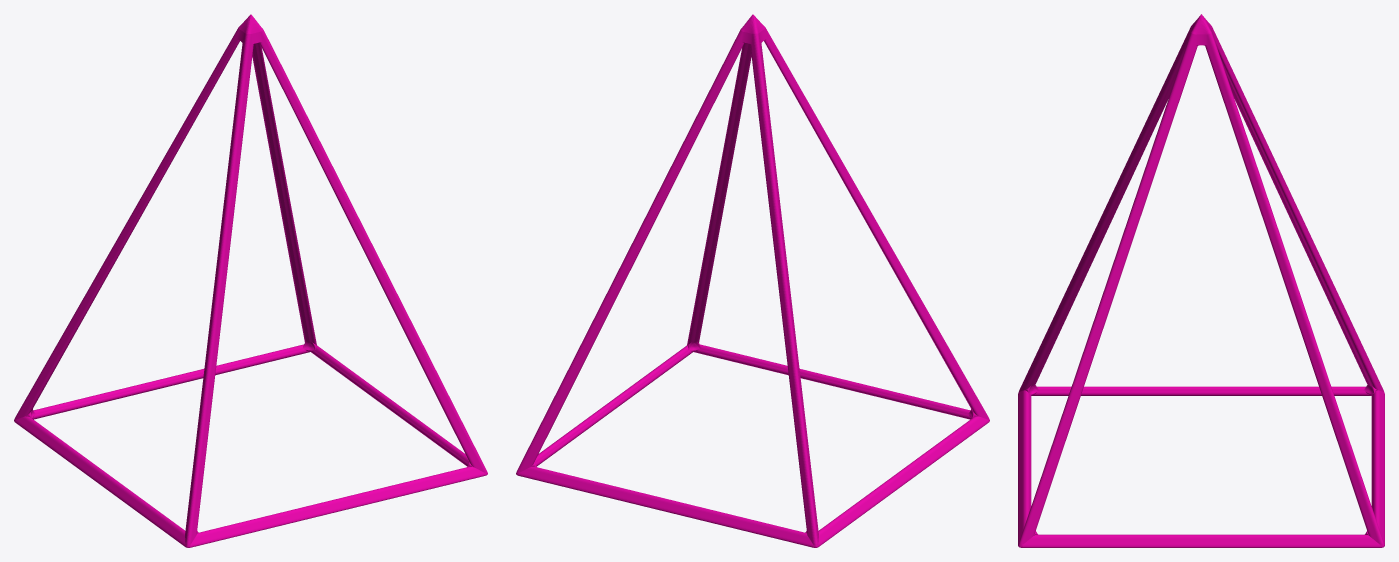
3 renders of one model, left to right at view 1: azimuth 30°, elevation 25°; view 2: azimuth 150°, elevation 25°; view 3: azimuth 270°, elevation 25°, orthographic. The views are drawn at different scales.
Parts seen in each view (by area): view 1: Конус.001; view 2: Конус.001; view 3: Конус.001.
Boxes of the visible parts, left/top/right/bottom form: Конус.001: left=14, top=14, right=487, bottom=547; Конус.001: left=516, top=14, right=989, bottom=547; Конус.001: left=1018, top=14, right=1384, bottom=547.
Size of the model in its own units: 1.45 by 1.99 by 1.45.
